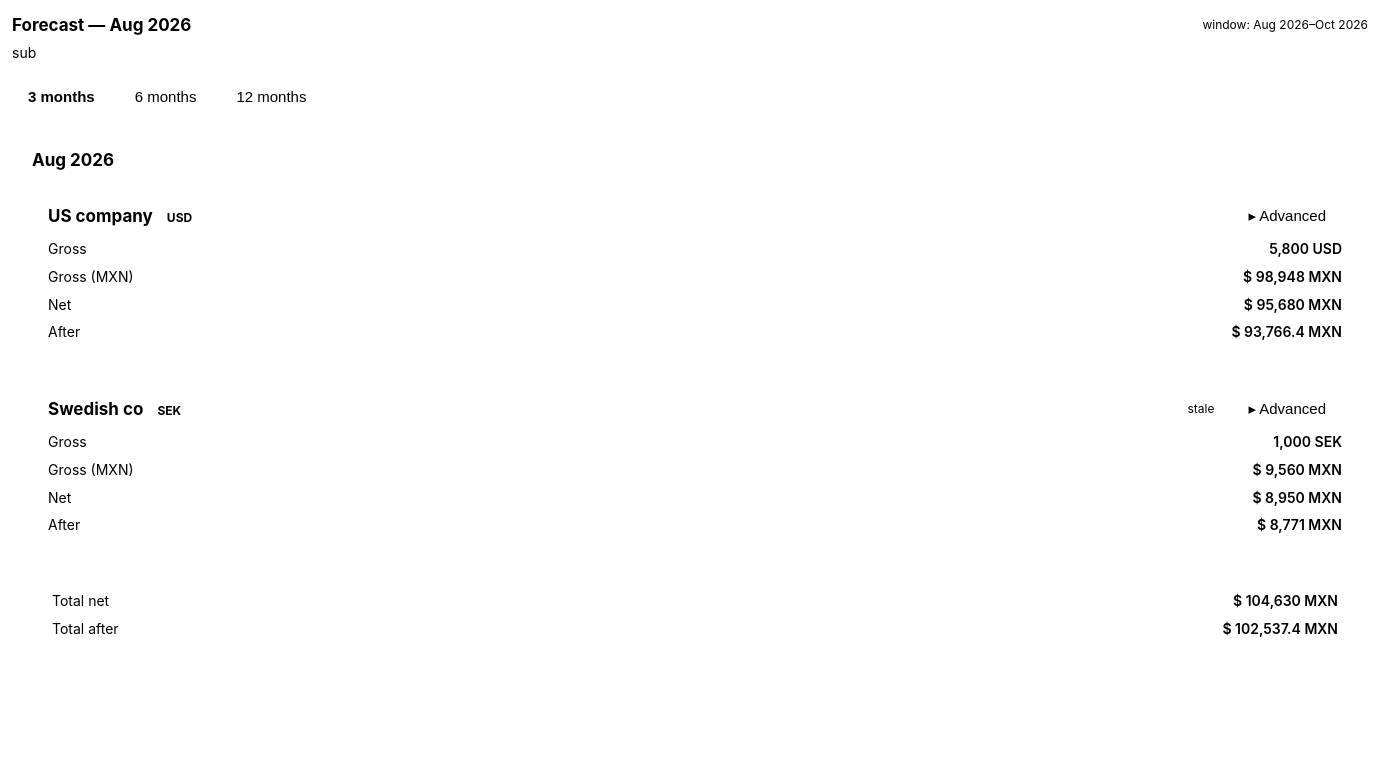
Test case: ForecastScreen (bug fixes) › each source row has an Advanced/Simple toggle instead of a row-wide click
Click the button "▸ Advanced" in the row of "US company" at (1287, 216), box [1232,197,1342,235]
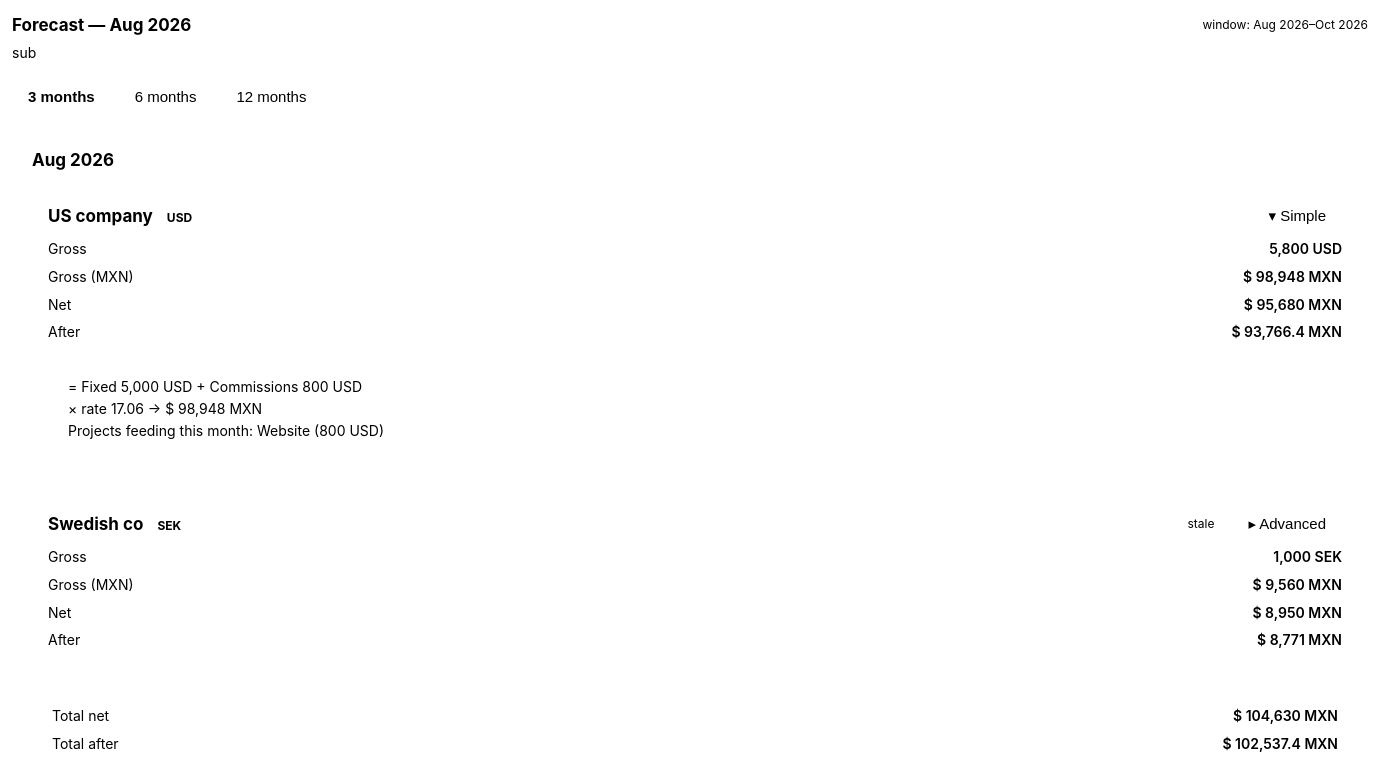
Expected: the number of buttons "▾ Simple" is 1, [1252,197,1342,235]
Expected: the button "▾ Simple" is shown, [1252,197,1342,235]
